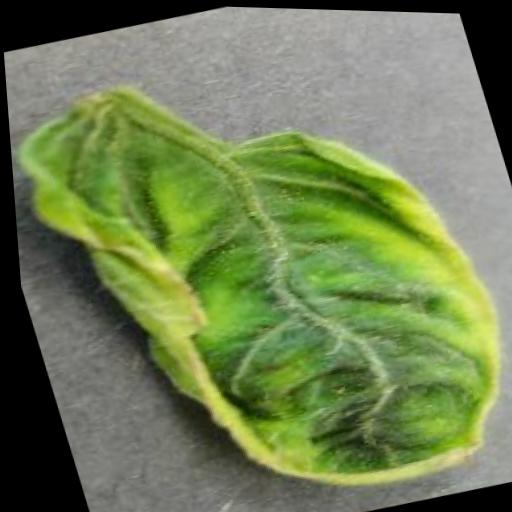Yellow Leaf Curl Virus: (1, 14, 512, 512)
